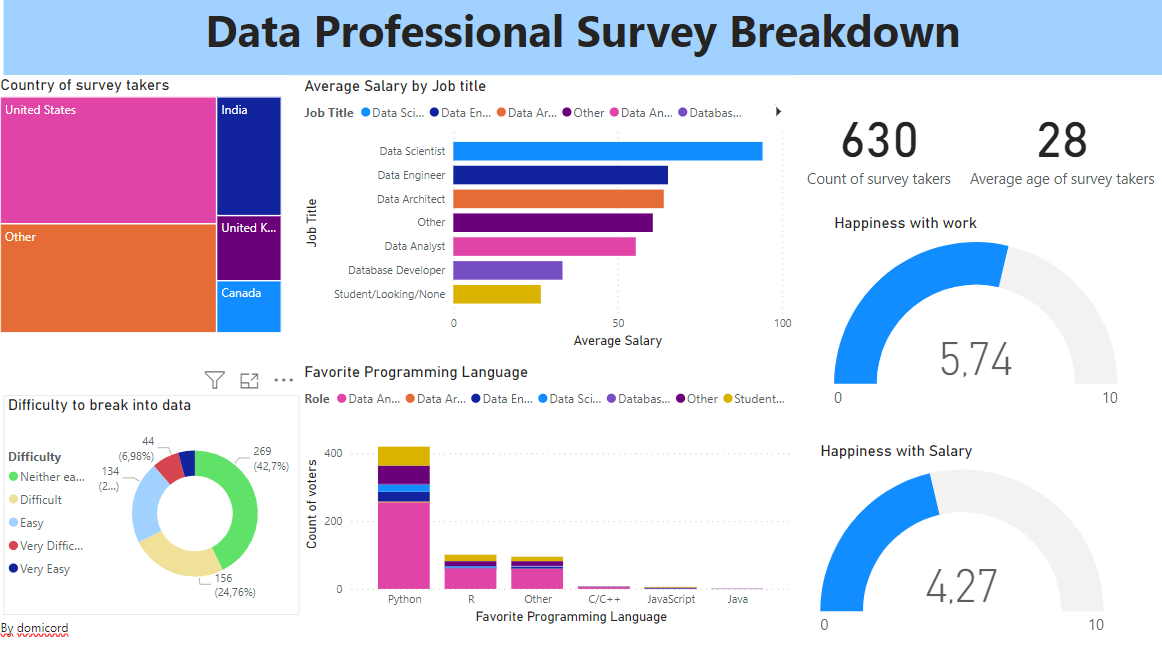

The dashboard page shown, as its layout file describes it:
{"tool":"powerbi","page":{"name":"Página 1","canvas":[1280,720],"ordinal":0},"visuals":[{"type":"textbox","box":[8.2,0,1272,87.8],"z":0},{"type":"card","fields":{"Values":["CountNonNull(Data Professional Survey.Unique ID)"]},"box":[878.2,87.8,182.5,150.9],"z":1000},{"type":"card","fields":{"Values":["Median(Data Professional Survey.Q10 - Current Age)"]},"box":[1060.7,87.8,219.6,150.9],"z":2000},{"type":"barChart","title":"Average Salary by Job title","fields":{"Category":["Data Professional Survey.Q1 - Which Title Best Fits your Current Role?.1"],"Y":["Avg(Data Professional Survey.Average Salary)"],"Series":["Data Professional Survey.Q1 - Which Title Best Fits your Current Role?.1"]},"box":[333.4,89.2,544.8,303.3],"z":3000},{"type":"columnChart","title":"Favorite Programming Language","fields":{"Category":["Data Professional Survey.Q5 - Favorite Programming Language.1"],"Y":["CountNonNull(Data Professional Survey.Unique ID)"],"Series":["Data Professional Survey.Q1 - Which Title Best Fits your Current Role?.1"]},"box":[333.4,403.4,544.8,292.3],"z":4000},{"type":"treemap","title":"Country of survey takers","fields":{"Group":["Data Professional Survey.Q11 - Which Country do you live in?.1"],"Values":["CountNonNull(Data Professional Survey.Q11 - Which Country do you live in?.1)"]},"box":[0,87.8,318.4,288.2],"z":4001},{"type":"gauge","title":"Happiness with work","fields":{"Y":["Avg(Data Professional Survey.Q6 - How Happy are you in your Current Position with the following? (Work/Life Balance))"],"MinValue":["Min(Data Professional Survey.Q6 - How Happy are you in your Current Position with the following? (Work/Life Balance))"],"MaxValue":["Max(Data Professional Survey.Q6 - How Happy are you in your Current Position with the following? (Work/Life Balance))"]},"box":[915.3,240.1,321.1,230.5],"z":4002},{"type":"gauge","title":"Happiness with Salary","fields":{"Y":["Avg(Data Professional Survey.Q6 - How Happy are you in your Current Position with the following? (Salary))"],"MinValue":["Min(Data Professional Survey.Q6 - How Happy are you in your Current Position with the following? (Salary))"],"MaxValue":["Max(Data Professional Survey.Q6 - How Happy are you in your Current Position with the following? (Salary))"]},"box":[900.2,489.9,321.1,230.5],"z":4003},{"type":"donutChart","title":"Difficulty to break into data","fields":{"Category":["Data Professional Survey.Q7 - How difficult was it for you to break into Data?"],"Y":["CountNonNull(Data Professional Survey.Q7 - How difficult was it for you to break into Data?)"]},"box":[8.2,439.1,325.2,241.5],"z":4004},{"type":"textbox","box":[0,680.6,94.7,39.8],"z":4005}]}

Visuals, with their boxes in screenshot pixels (x1, y1, x2, y2), scaled from the page's 1280x720 canvas onto the 1162x647 screenshot:
textbox: detection(7, 0, 1161, 79)
card - CountNonNull(Data Professional Survey.Unique ID): detection(797, 79, 963, 214)
card - Median(Data Professional Survey.Q10 - Current Age): detection(963, 79, 1161, 214)
"Average Salary by Job title" barChart: detection(303, 80, 797, 353)
"Favorite Programming Language" columnChart: detection(303, 362, 797, 625)
"Country of survey takers" treemap: detection(0, 79, 289, 338)
"Happiness with work" gauge: detection(831, 216, 1122, 423)
"Happiness with Salary" gauge: detection(817, 440, 1109, 646)
"Difficulty to break into data" donutChart: detection(7, 395, 303, 612)
textbox: detection(0, 612, 86, 646)
